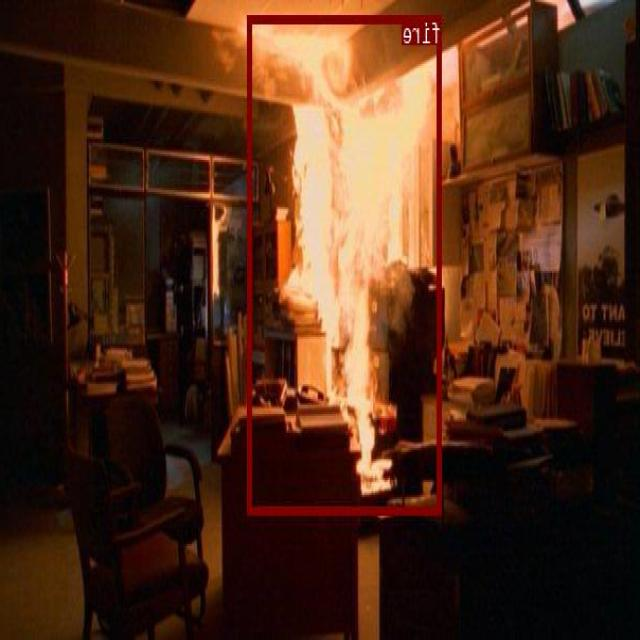fire: (249, 15, 442, 514)
